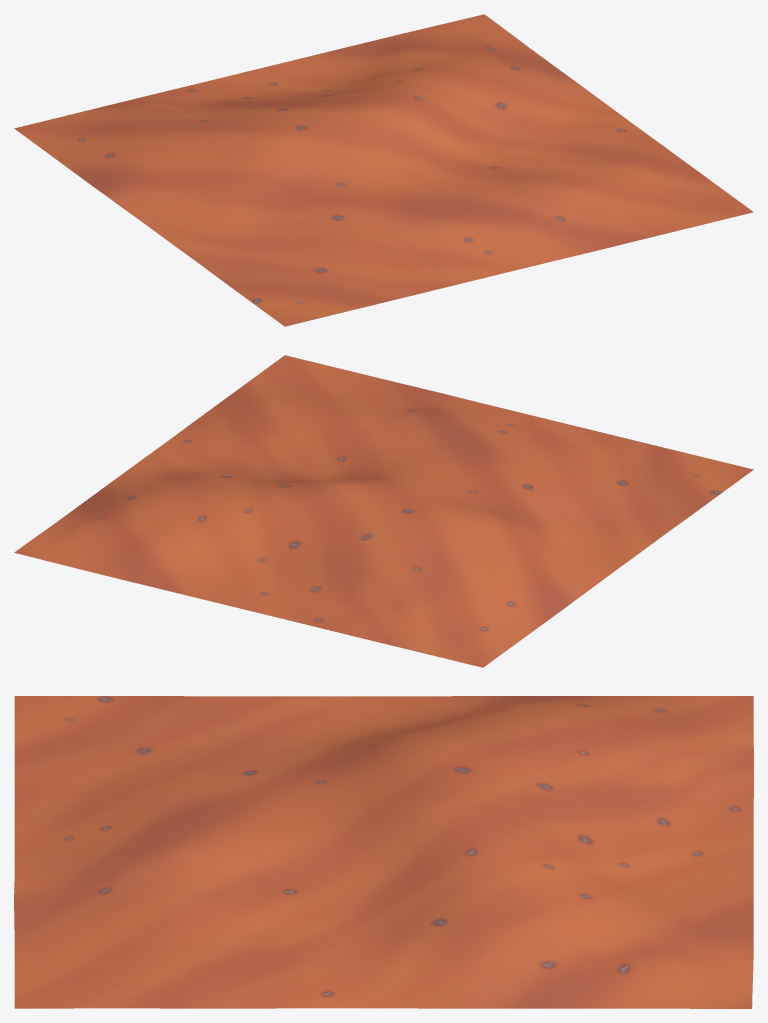
Rendered from SM_SandGeoDecal_02.fbx.
3 renders of one model, top to bottom at view 1: azimuth 30°, elevation 25°; view 2: azimuth 150°, elevation 25°; view 3: azimuth 270°, elevation 25°, orthographic. The views are drawn at different scales.
Visible parts, largest first — view 1: SM_SandGéoDeca_02; view 2: SM_SandGéoDeca_02; view 3: SM_SandGéoDeca_02.
Part boxes in pixels (x1,y1,x2,y2): SM_SandGéoDeca_02: [14, 14, 753, 326]; SM_SandGéoDeca_02: [14, 355, 753, 667]; SM_SandGéoDeca_02: [14, 696, 753, 1008].
Size of the model in its own units: 401 by 30.03 by 400.
